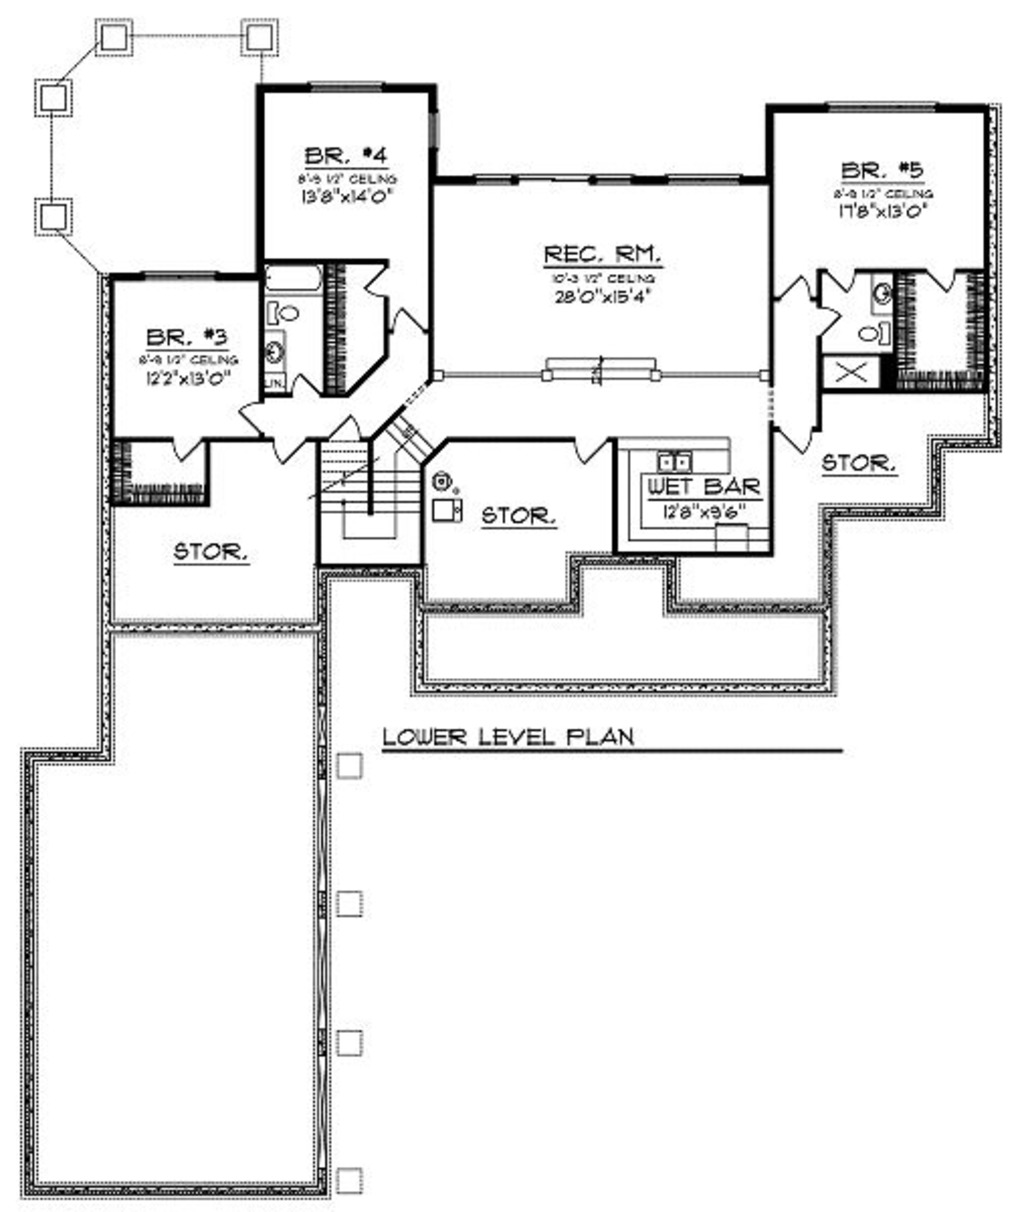door: (562, 429, 614, 472), (382, 303, 434, 338), (777, 425, 832, 458), (264, 435, 311, 471), (921, 256, 963, 294), (772, 267, 811, 306), (287, 367, 331, 399), (231, 393, 263, 435), (163, 433, 203, 465), (359, 258, 394, 294)
kitchen_bar: (613, 429, 735, 481)
large_sink: (257, 297, 304, 330), (853, 312, 896, 345)
stairs: (311, 434, 425, 588)
tub: (254, 257, 331, 301)
windows: (468, 163, 748, 199), (823, 90, 945, 119), (291, 74, 394, 103), (125, 263, 221, 290)
